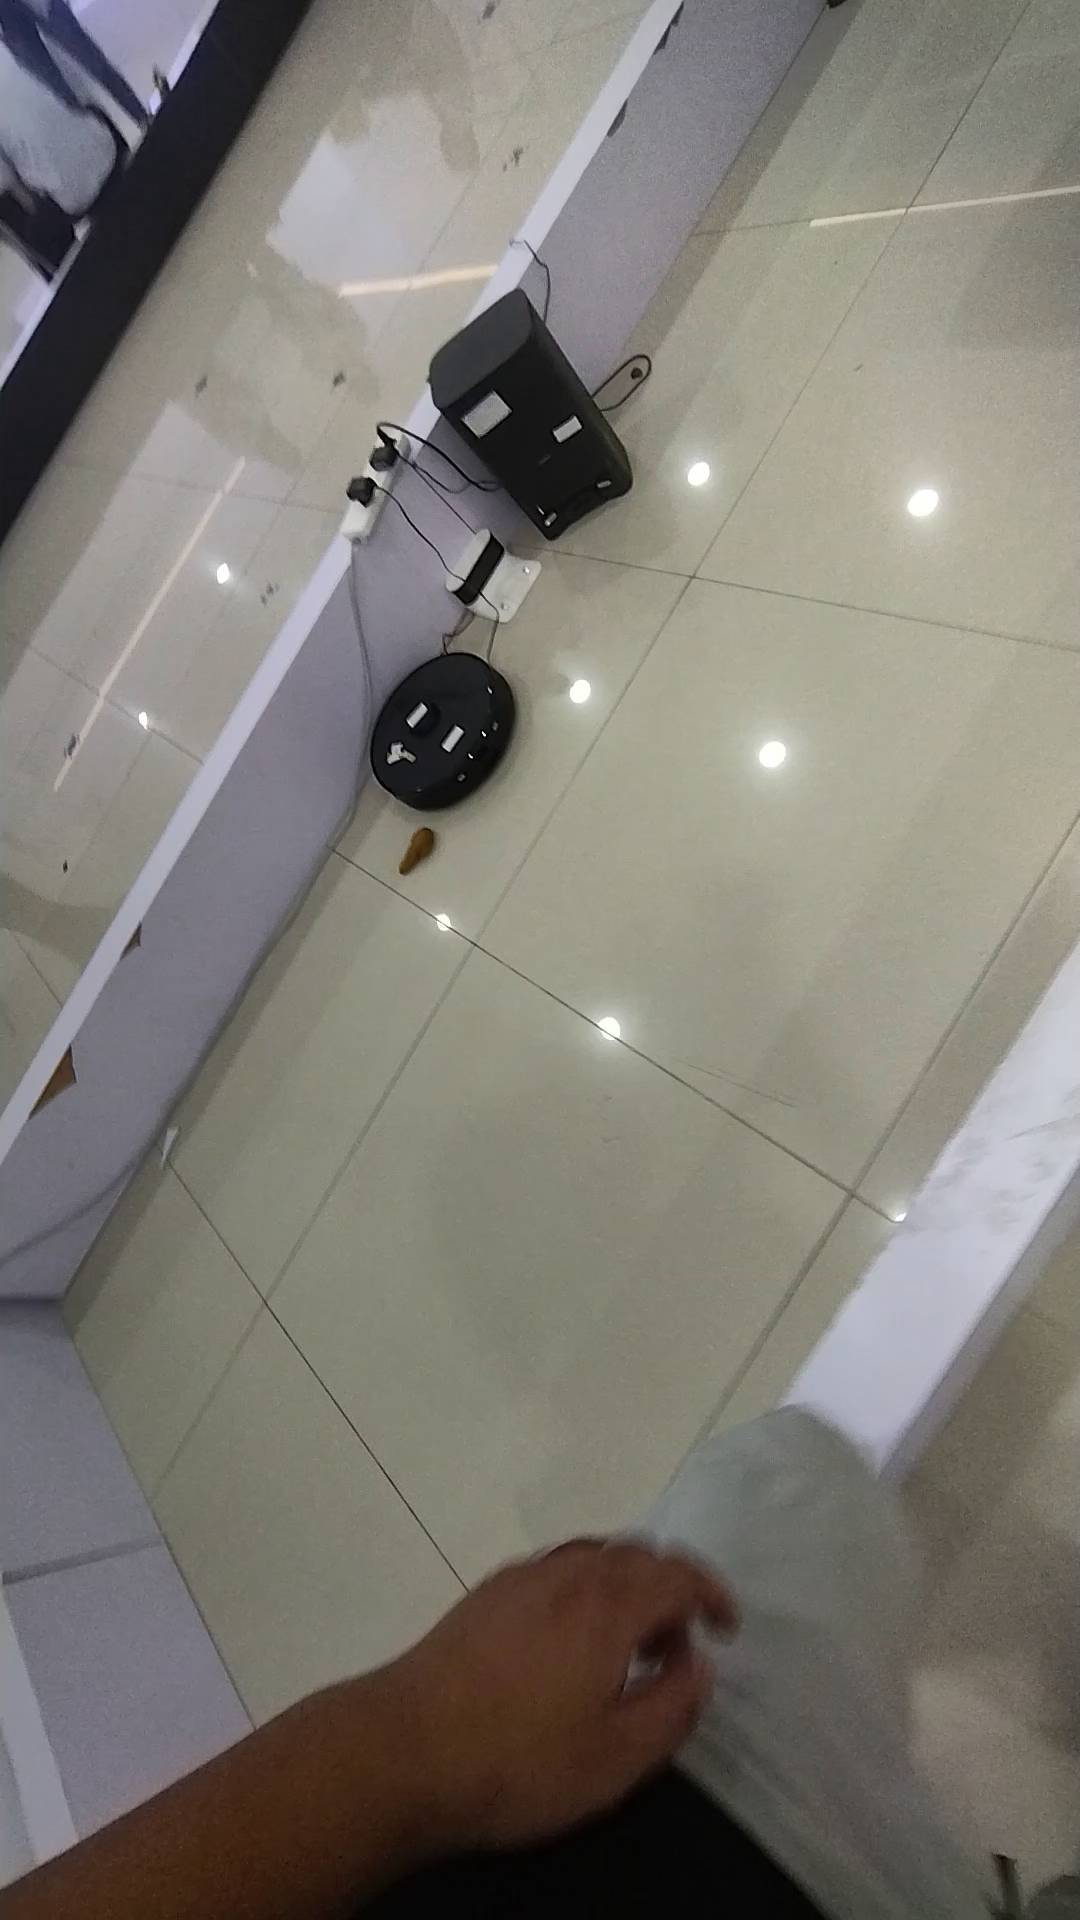dust collecting barrel: (426, 290, 636, 542)
recharge seat: (443, 529, 545, 626)
